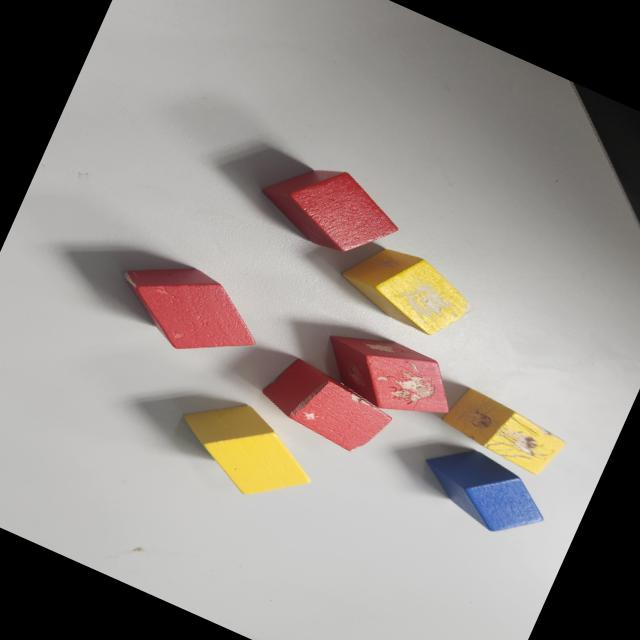blue: (410, 434, 560, 550)
broken: (104, 242, 274, 378), (311, 316, 466, 434), (334, 232, 480, 346), (255, 352, 400, 464), (438, 383, 570, 481)
red: (250, 143, 411, 273)
yellow: (165, 384, 328, 517)
